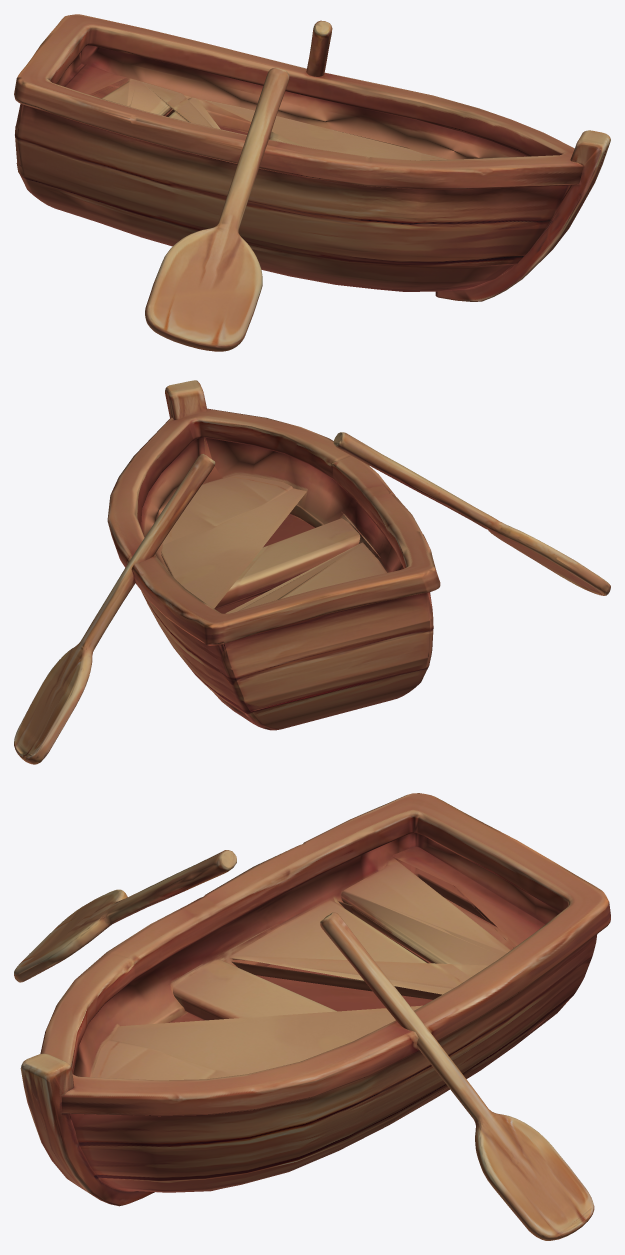
The picture shows the model from 3 angles, top to bottom: view 1: azimuth 30°, elevation 25°; view 2: azimuth 150°, elevation 25°; view 3: azimuth 270°, elevation 25°; orthographic projection. The views are drawn at different scales.
Parts seen in each view (by area): view 1: tripo_node_8121dfc3; view 2: tripo_node_8121dfc3; view 3: tripo_node_8121dfc3.
Boxes of the visible parts, x1,y1,x2,y2 form: tripo_node_8121dfc3: [14, 14, 610, 351]; tripo_node_8121dfc3: [14, 380, 610, 764]; tripo_node_8121dfc3: [14, 793, 610, 1240].
Size of the model in its own units: 0.9946 by 0.5386 by 0.9995.
1 material, 1 textured.
